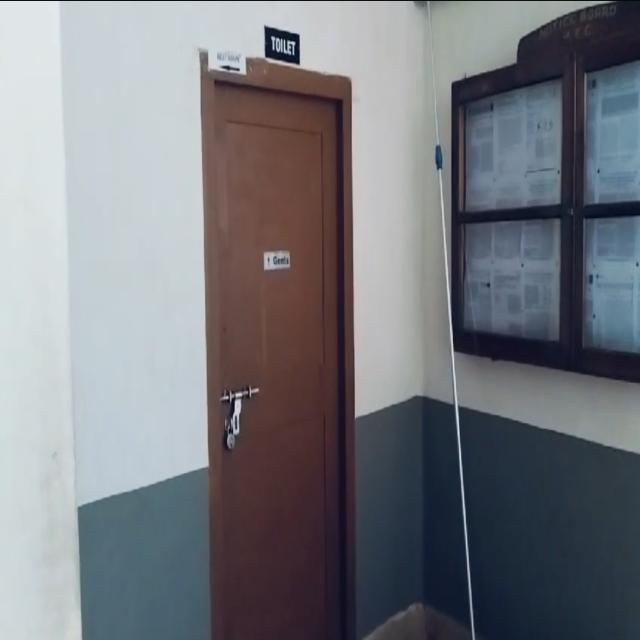Door ahead at: (207, 61, 350, 638)
